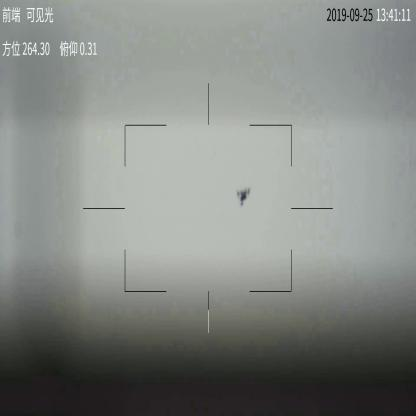uav: (235, 187, 253, 210)
